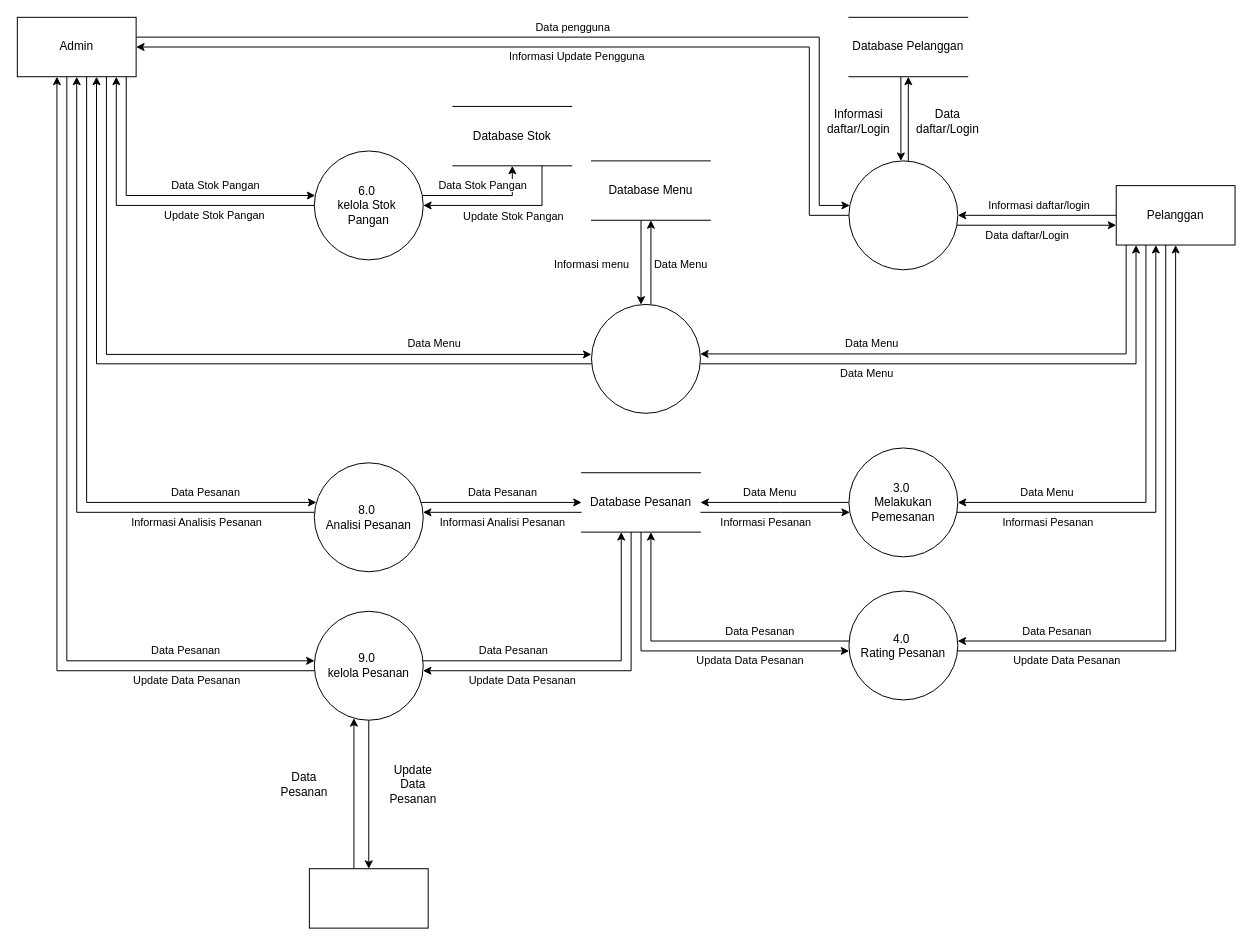
This 1252x945 diagram has some shape labels left out. Here are the shapes that lost their labels. From the top down, the centre of each, then its label:
the point at 903,215: 1.0 Daftar dan Login
the point at 645,358: 2.0 Katalog Menu
the point at 368,898: Staff
